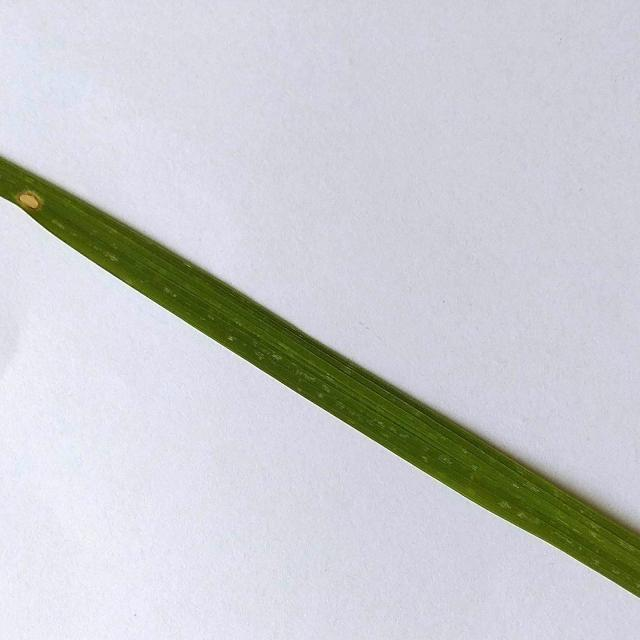Leaf blast: (0, 157, 640, 599), (10, 187, 42, 213)
